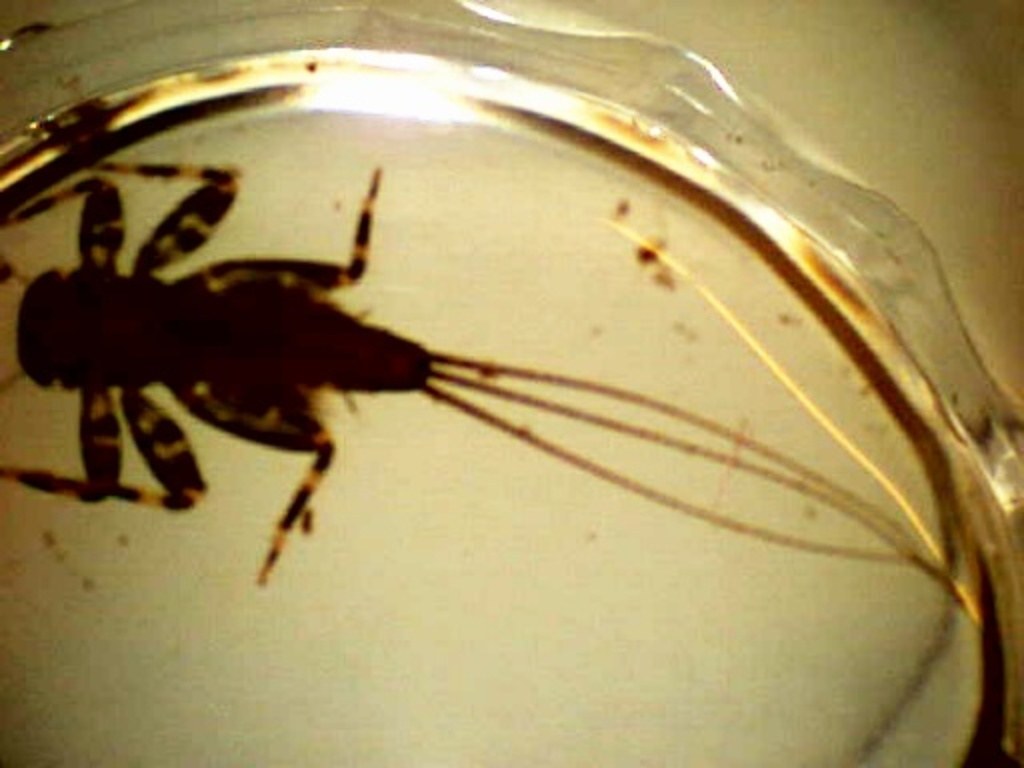insect: (0, 160, 986, 618)
